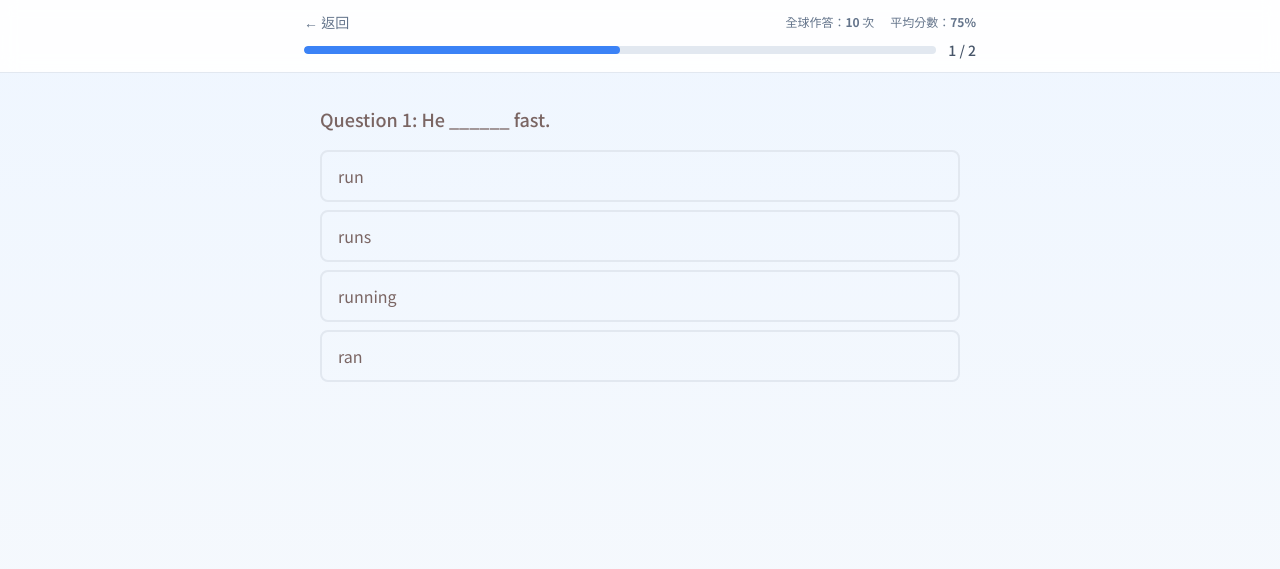
Test case: Quiz Flow Integration › retry wrongs flow
Expected: the text "Question 1: He ______ fast." is shown, x1=320 y1=106 x2=550 y2=132
Click the button "runs".
click(355, 236)  # box x1=320 y1=210 x2=960 y2=262
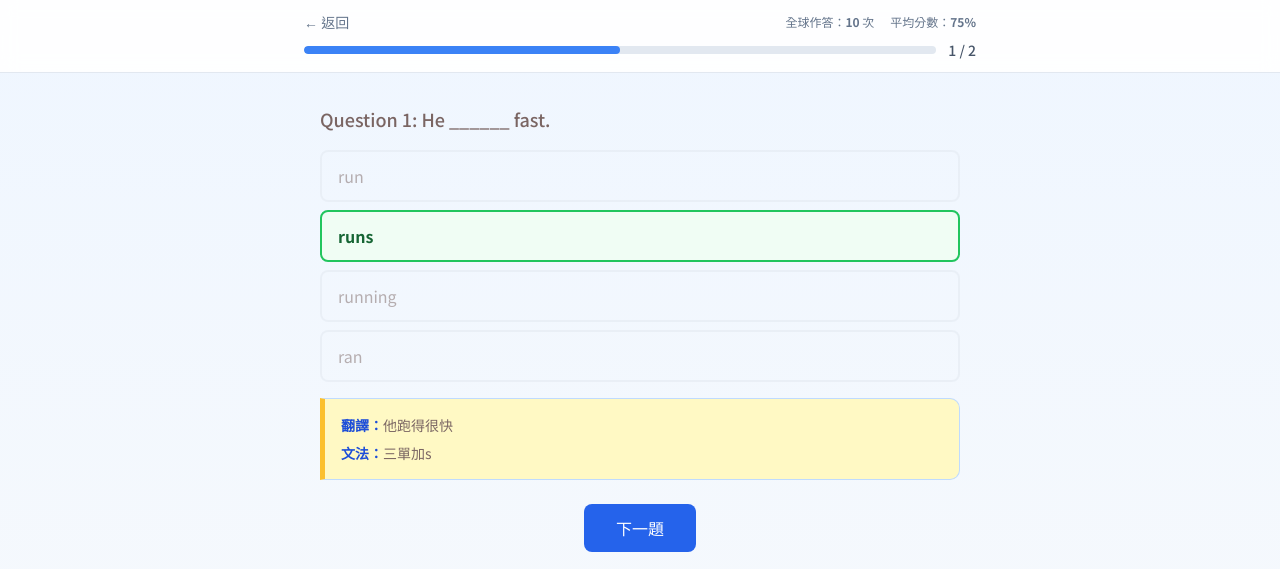
Click the button "下一題".
click(640, 528)  # box x1=584 y1=504 x2=696 y2=552
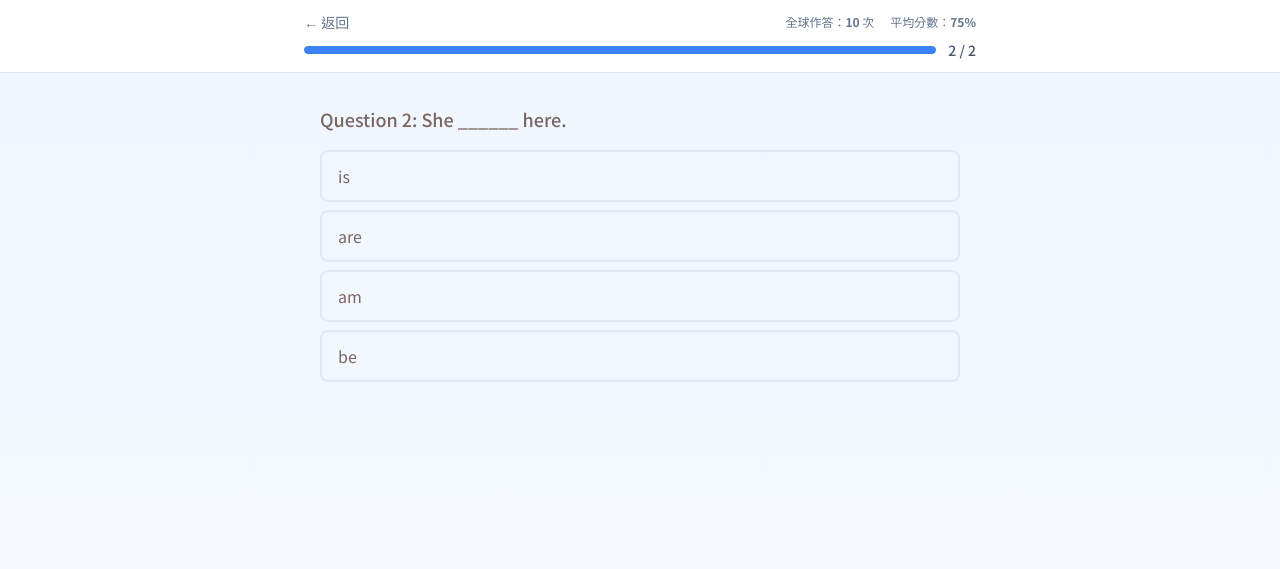
Click the button "are".
click(350, 236)  # box x1=320 y1=210 x2=960 y2=262
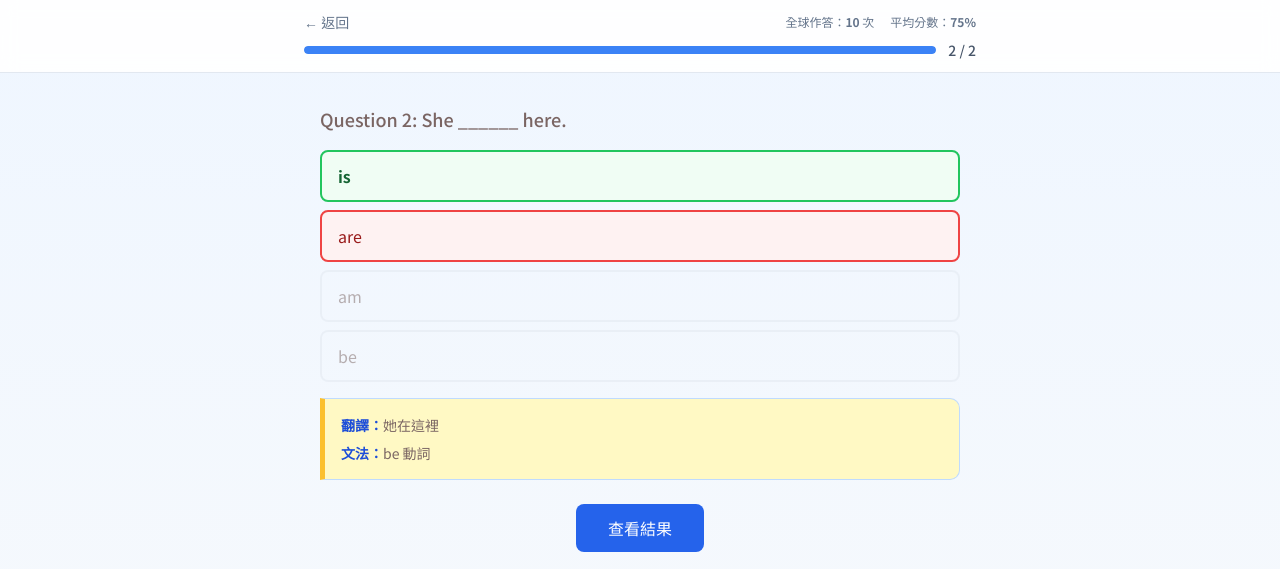
Click the button "查看結果".
click(640, 528)  # box x1=576 y1=504 x2=704 y2=552
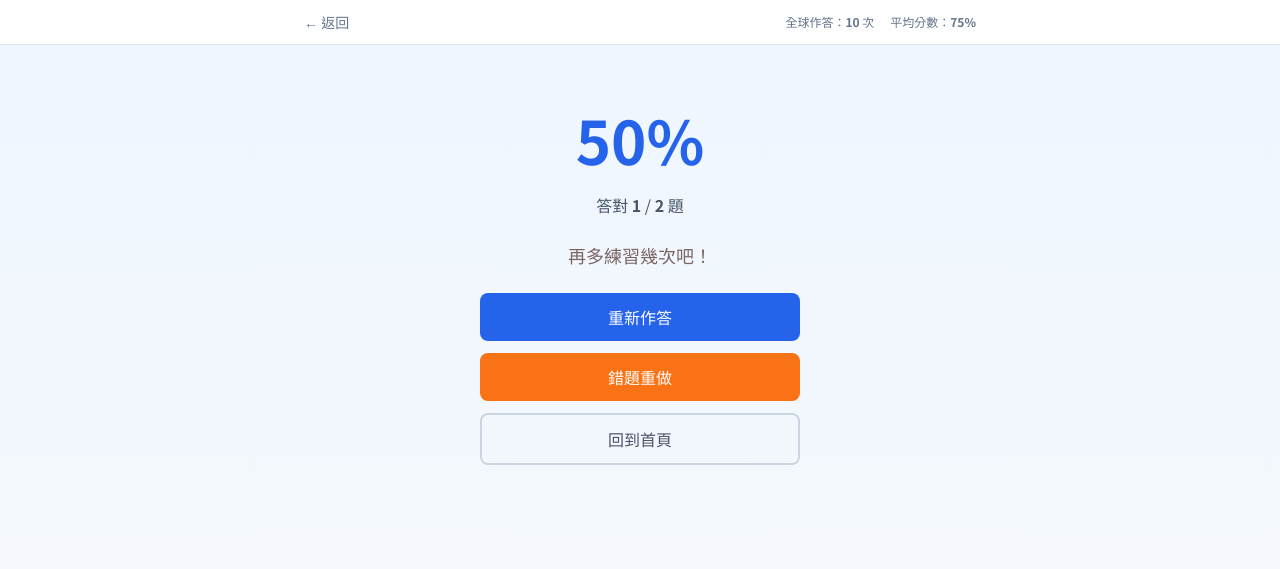
Click retry wrongs
Click the button "錯題重做".
click(640, 377)  # box x1=480 y1=353 x2=800 y2=401
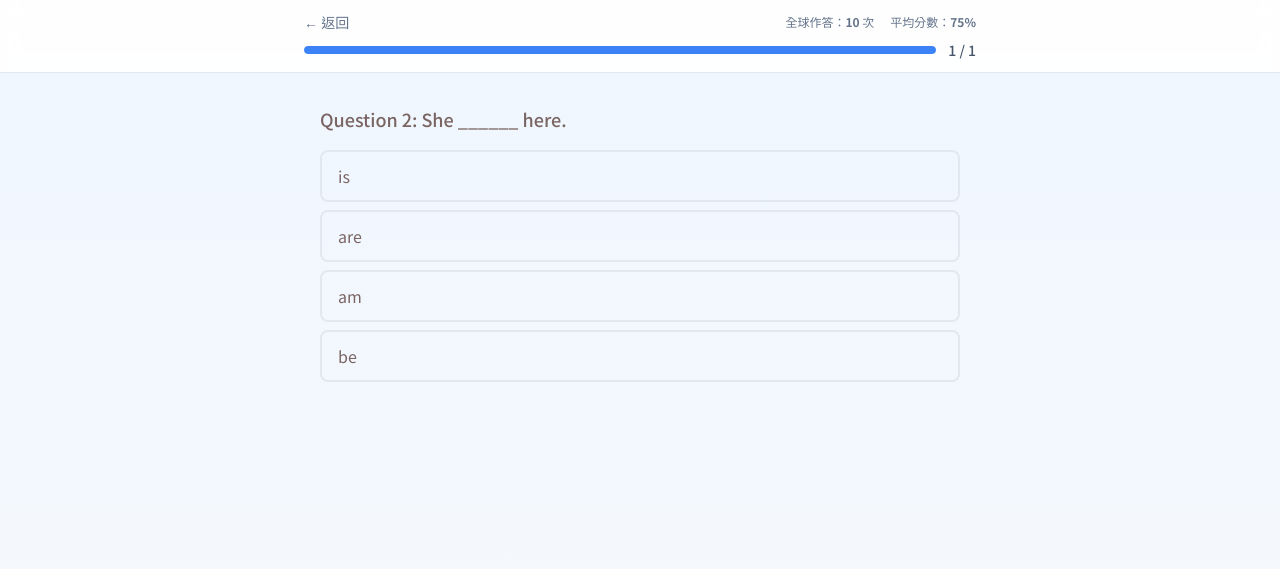
Expected: the text "Question 2: She ______ here." is shown, x1=320 y1=106 x2=566 y2=132
